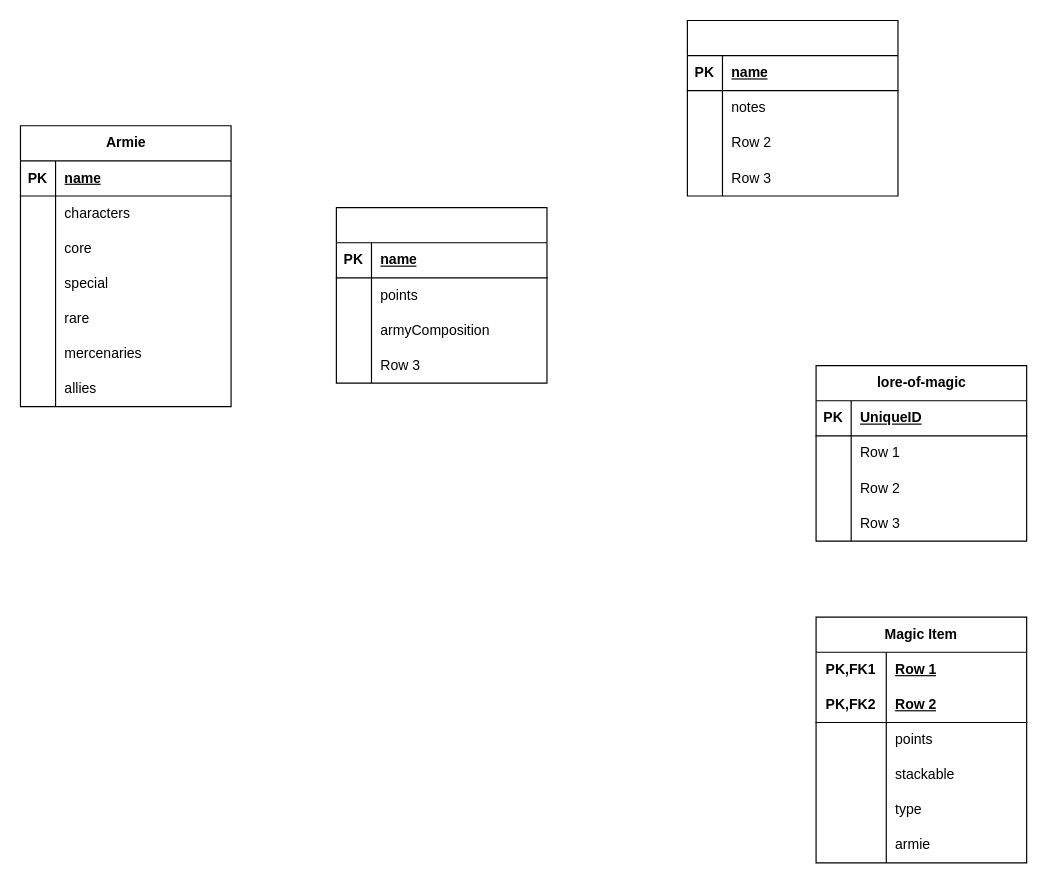
Image size: 1047x883. Some labels were removed from this diagram. Here are the shapes that lost their labels. From the top down, the box of each, then its label:
(686, 19, 898, 196): Table
(335, 207, 547, 383): Character
